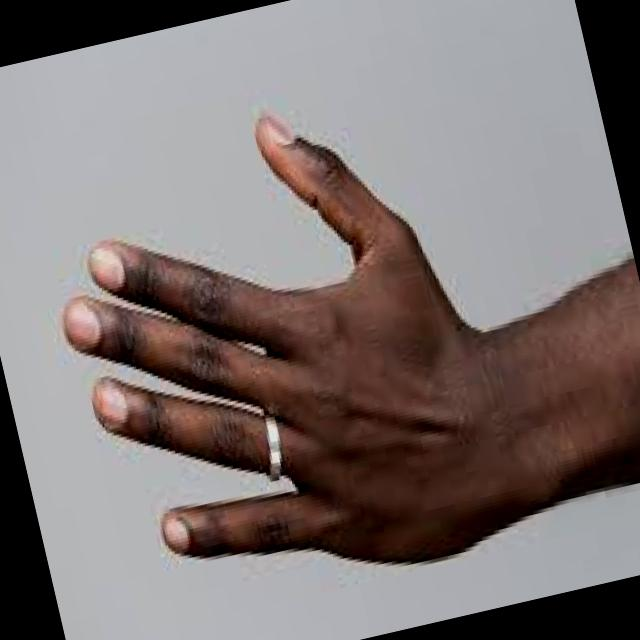Hand: (12, 59, 522, 638)
